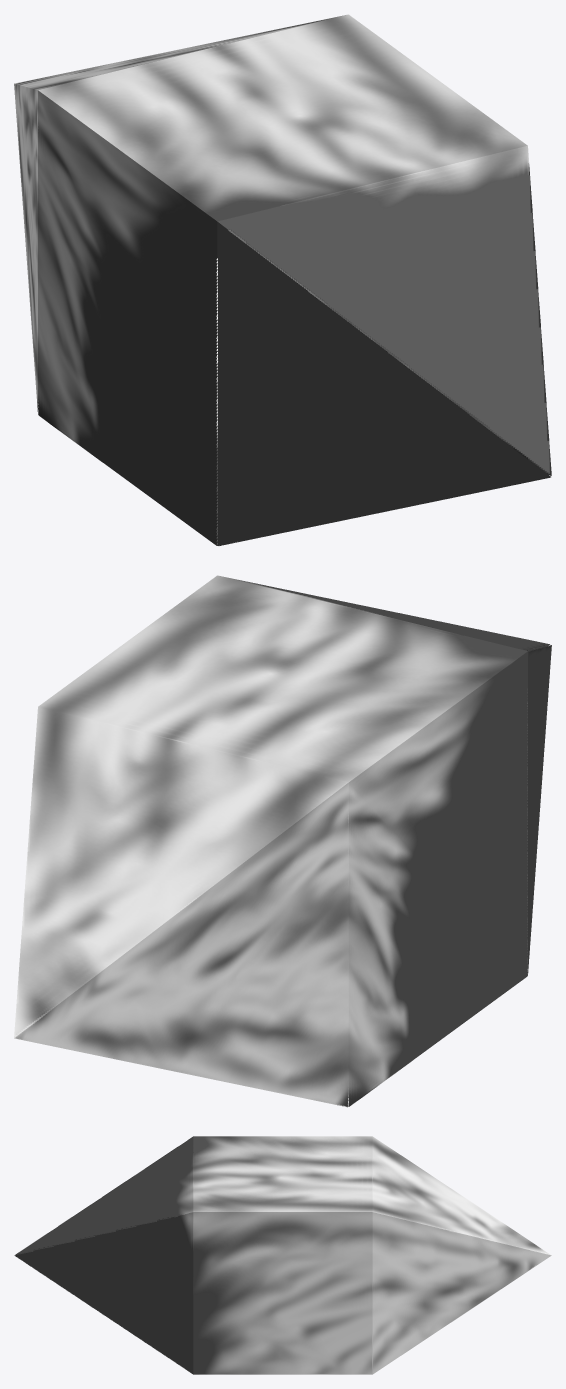
The picture shows the model from 3 angles, top to bottom: view 1: azimuth 30°, elevation 25°; view 2: azimuth 150°, elevation 25°; view 3: azimuth 270°, elevation 25°; orthographic projection. The views are drawn at different scales.
Visible parts, largest first — view 1: Projectile; view 2: Projectile; view 3: Projectile.
Part boxes in pixels (x1,y1,x2,y2): Projectile: [14, 14, 551, 545]; Projectile: [14, 575, 551, 1107]; Projectile: [14, 1136, 551, 1374].
Size of the model in its own units: 2 by 6 by 2.
